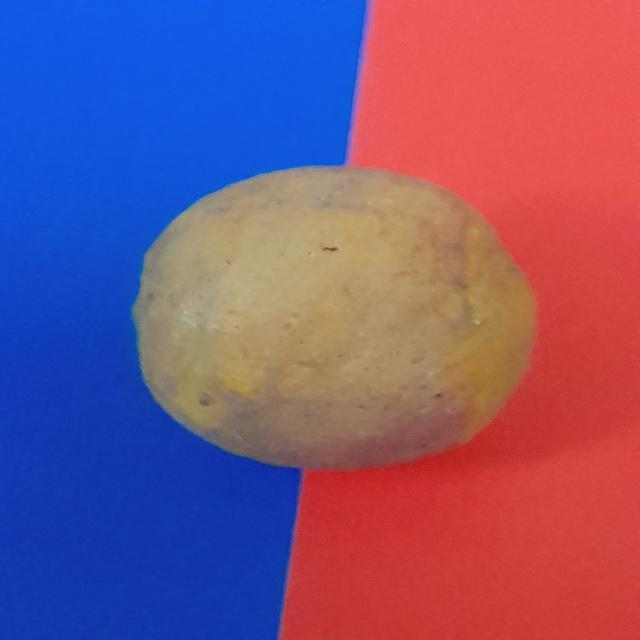thrips: (117, 162, 544, 462)
